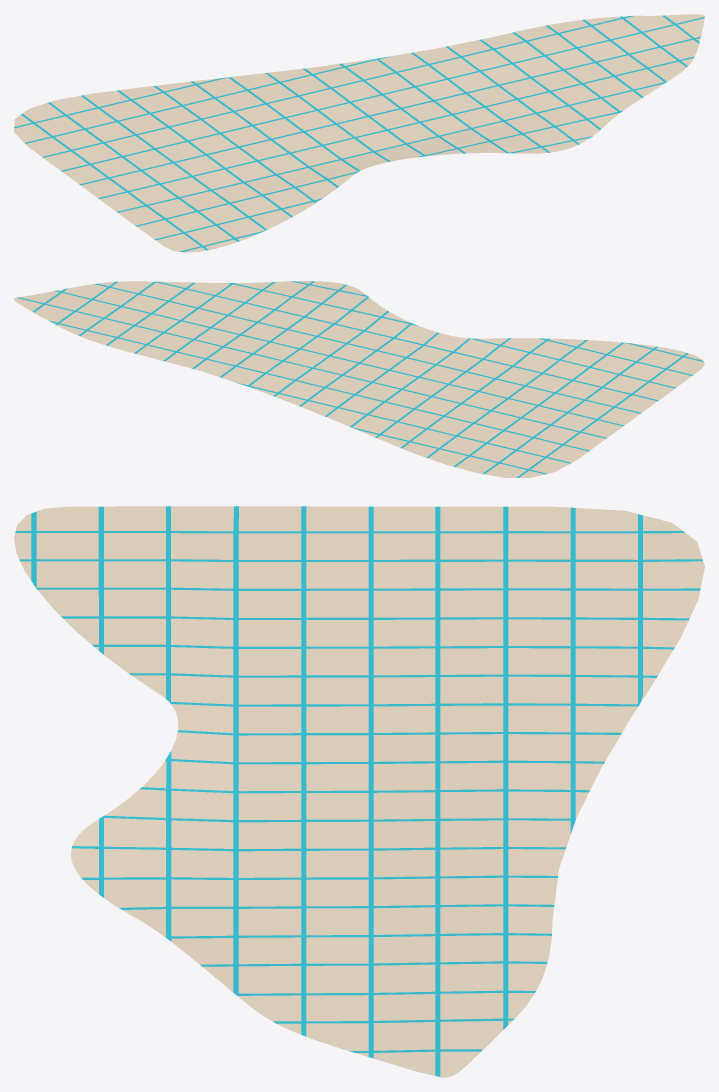
The model's file is suelo.fbx.
3 renders of one model, top to bottom at view 1: azimuth 30°, elevation 25°; view 2: azimuth 150°, elevation 25°; view 3: azimuth 270°, elevation 25°, orthographic. The views are drawn at different scales.
Parts seen in each view (by area): view 1: suelo; view 2: suelo; view 3: suelo.
Part boxes in pixels (x1,y1,x2,y2): suelo: (14, 14, 704, 252); suelo: (14, 281, 704, 477); suelo: (14, 506, 704, 1077).
Bounding box in the file's own units: 103 × 199 × 1.14.
